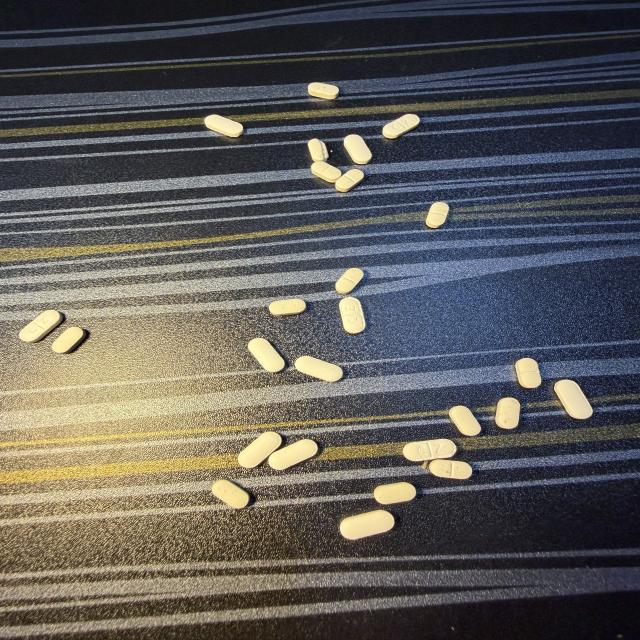pill: (340, 510, 394, 539), (238, 432, 281, 468), (269, 439, 317, 470), (554, 380, 592, 419), (19, 310, 63, 342), (248, 338, 285, 372), (295, 356, 343, 382), (403, 439, 456, 461), (212, 480, 249, 508), (339, 297, 365, 334), (449, 406, 480, 436), (374, 482, 416, 504), (383, 114, 419, 139), (52, 327, 86, 353), (205, 115, 243, 137), (429, 460, 472, 479), (344, 135, 371, 164), (515, 358, 541, 388), (496, 398, 520, 429), (336, 268, 364, 294), (269, 298, 306, 316), (311, 162, 341, 183), (336, 170, 364, 192), (426, 202, 449, 228), (308, 83, 339, 99), (308, 139, 328, 161)
